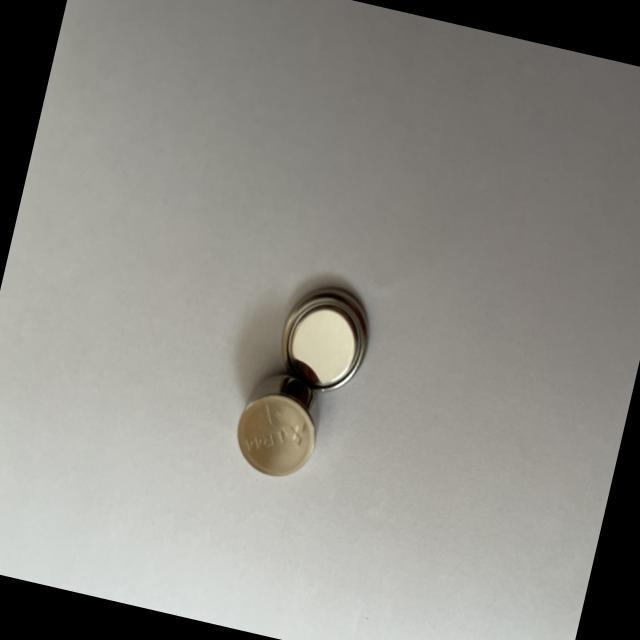COIN: (271, 276, 378, 396), (226, 360, 329, 482)
